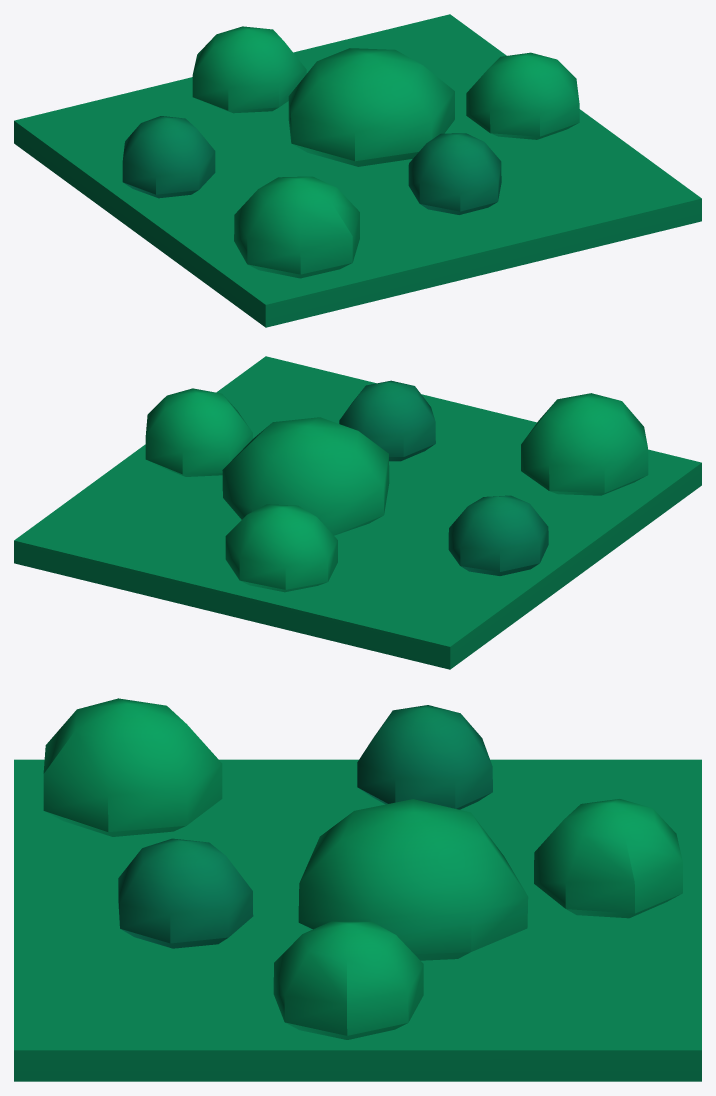
Rendered from park_base_decorated_bushes.glb.
3 renders of one model, top to bottom at view 1: azimuth 30°, elevation 25°; view 2: azimuth 150°, elevation 25°; view 3: azimuth 270°, elevation 25°, orthographic. The views are drawn at different scales.
Visible parts, largest first — view 1: park_base_decorated_bushes; view 2: park_base_decorated_bushes; view 3: park_base_decorated_bushes.
Part boxes in pixels (x1=…): park_base_decorated_bushes: x1=14, y1=14, x2=701, y2=327; park_base_decorated_bushes: x1=14, y1=356, x2=701, y2=669; park_base_decorated_bushes: x1=14, y1=698, x2=701, y2=1081.
Bounding box in the file's own units: 2 × 0.4617 × 2.
Materials: 1 (1 with a texture image).
